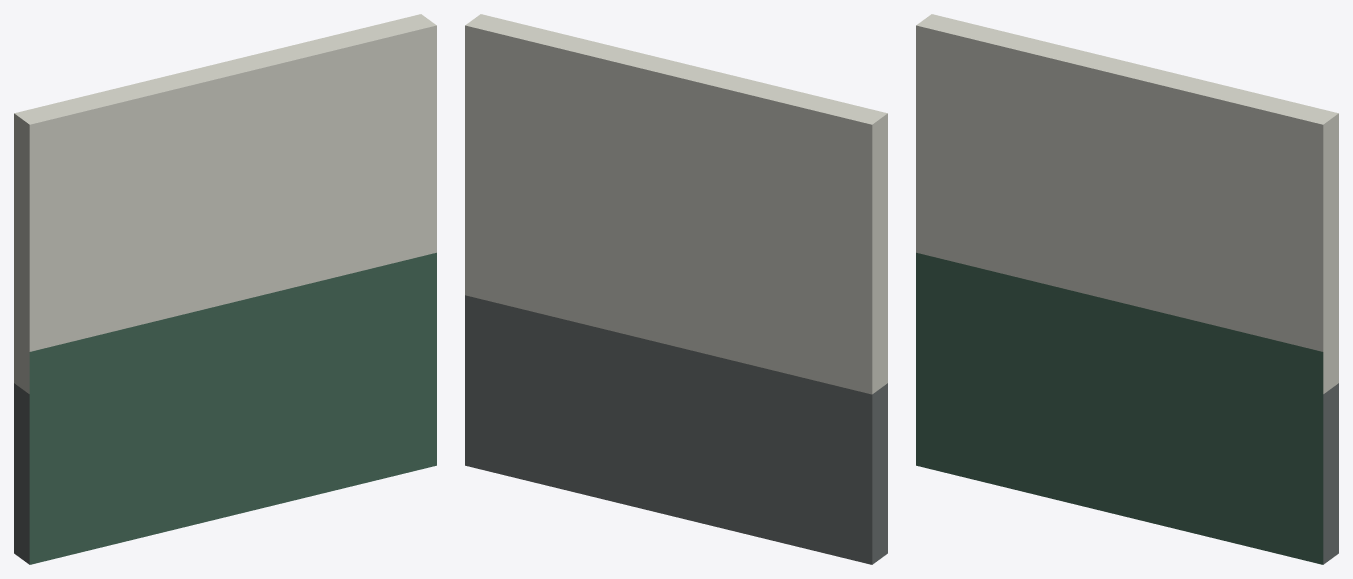
Rendered from hosp_wall_bsmt_paint.glb.
The picture shows the model from 3 angles, left to right: view 1: azimuth 30°, elevation 25°; view 2: azimuth 150°, elevation 25°; view 3: azimuth 330°, elevation 25°; orthographic projection.
Visible parts, largest first — view 1: hosp_wall_bsmt_paint-col; view 2: hosp_wall_bsmt_paint-col; view 3: hosp_wall_bsmt_paint-col.
Part boxes in pixels (left/top/right/bottom): hosp_wall_bsmt_paint-col: left=14, top=14, right=436, bottom=564; hosp_wall_bsmt_paint-col: left=465, top=14, right=887, bottom=564; hosp_wall_bsmt_paint-col: left=916, top=14, right=1338, bottom=564.
Bounding box in the file's own units: 3 × 3.1 × 0.2.
